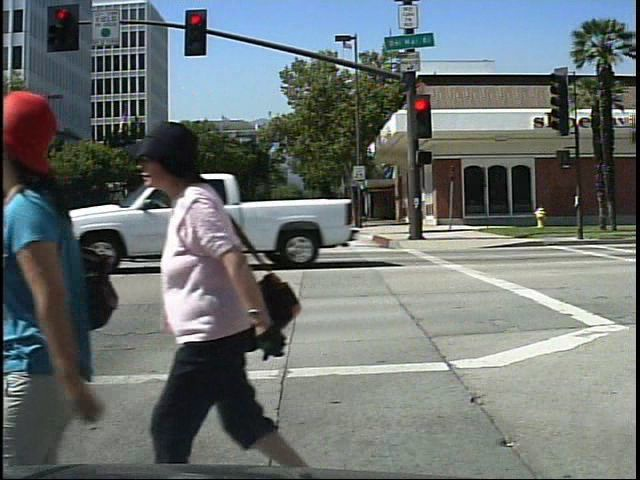person: (139, 108, 320, 470), (0, 83, 145, 470)
